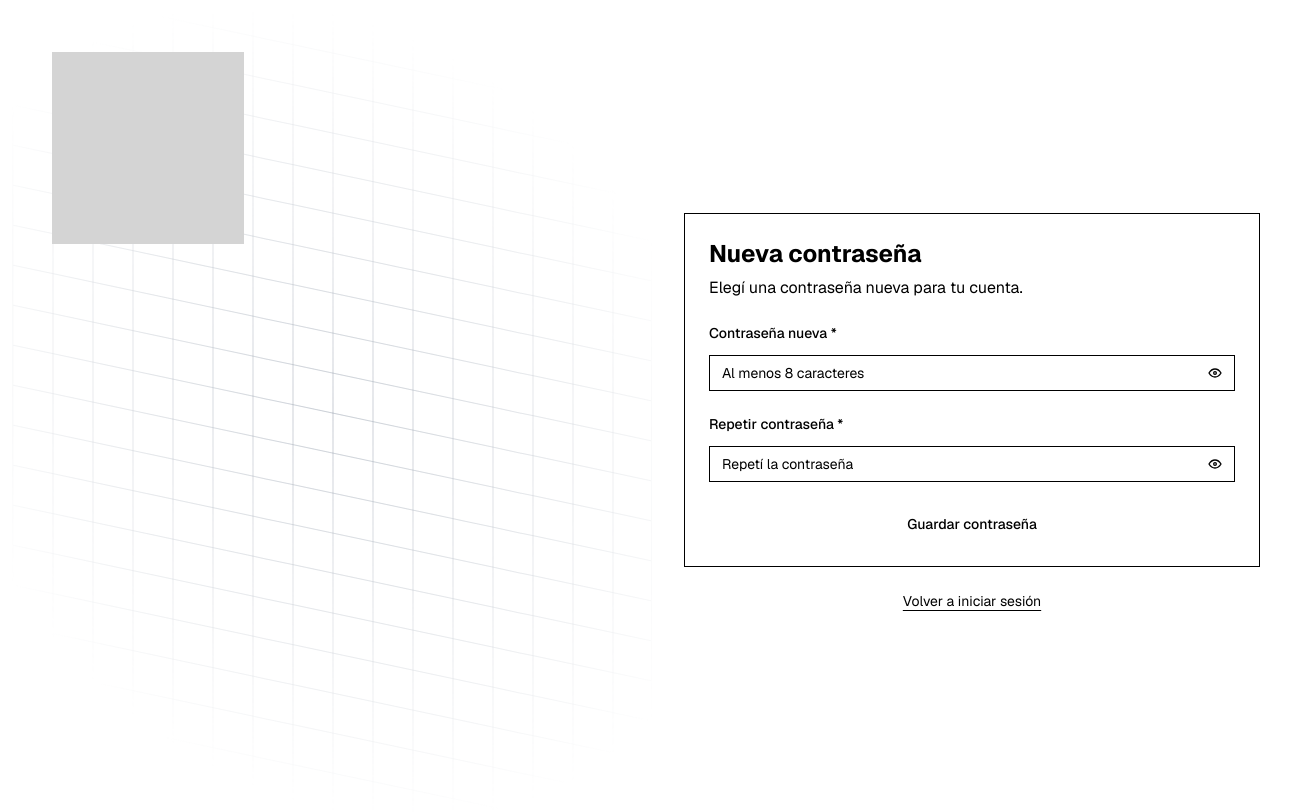
Test: password visibility (#281) › reveals and re-hides each password field independently, keeping what was typed
Type "newpassword1" into the password field labelled "Contraseña nueva *".
click(972, 373); type("newpassword1")  # box [709, 355, 1235, 391]
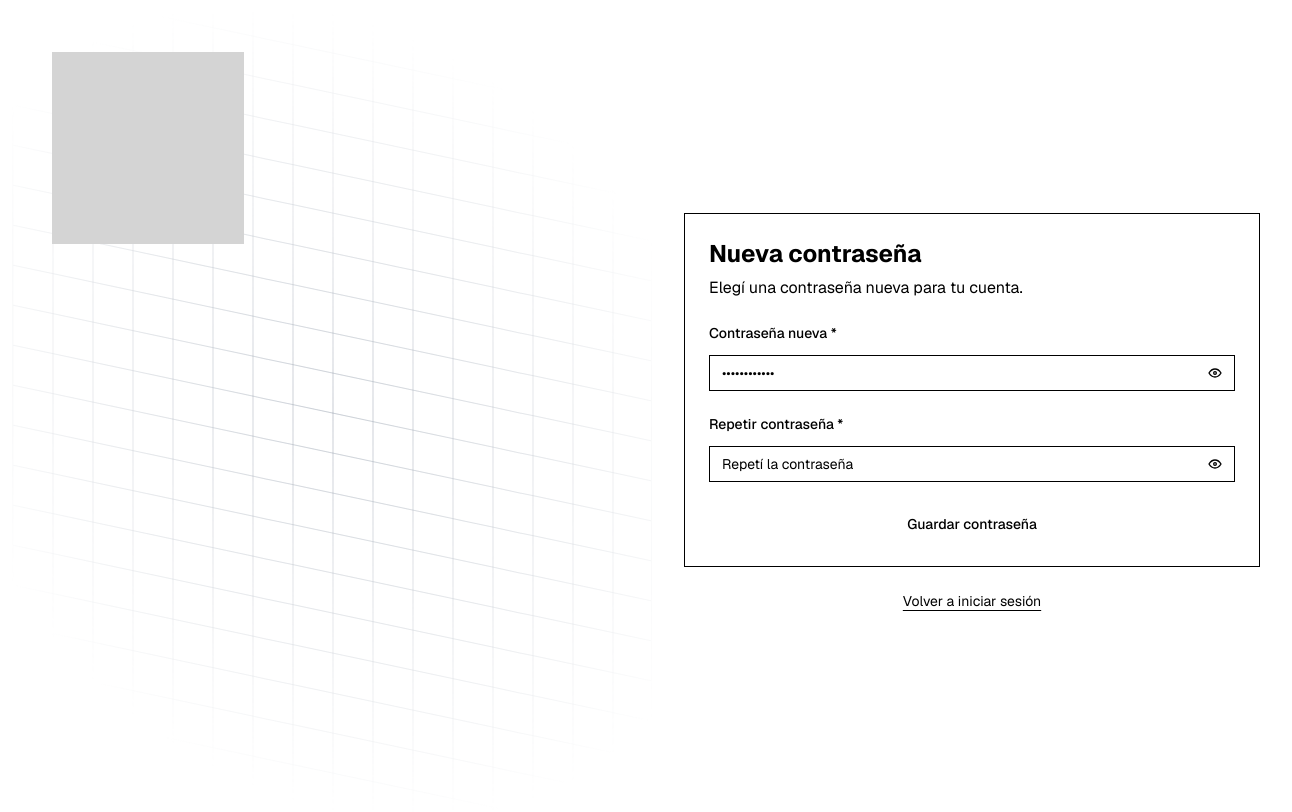
Type "newpassword1" into the password field labelled "Repetir contraseña *".
click(972, 464); type("newpassword1")  # box [709, 446, 1235, 482]
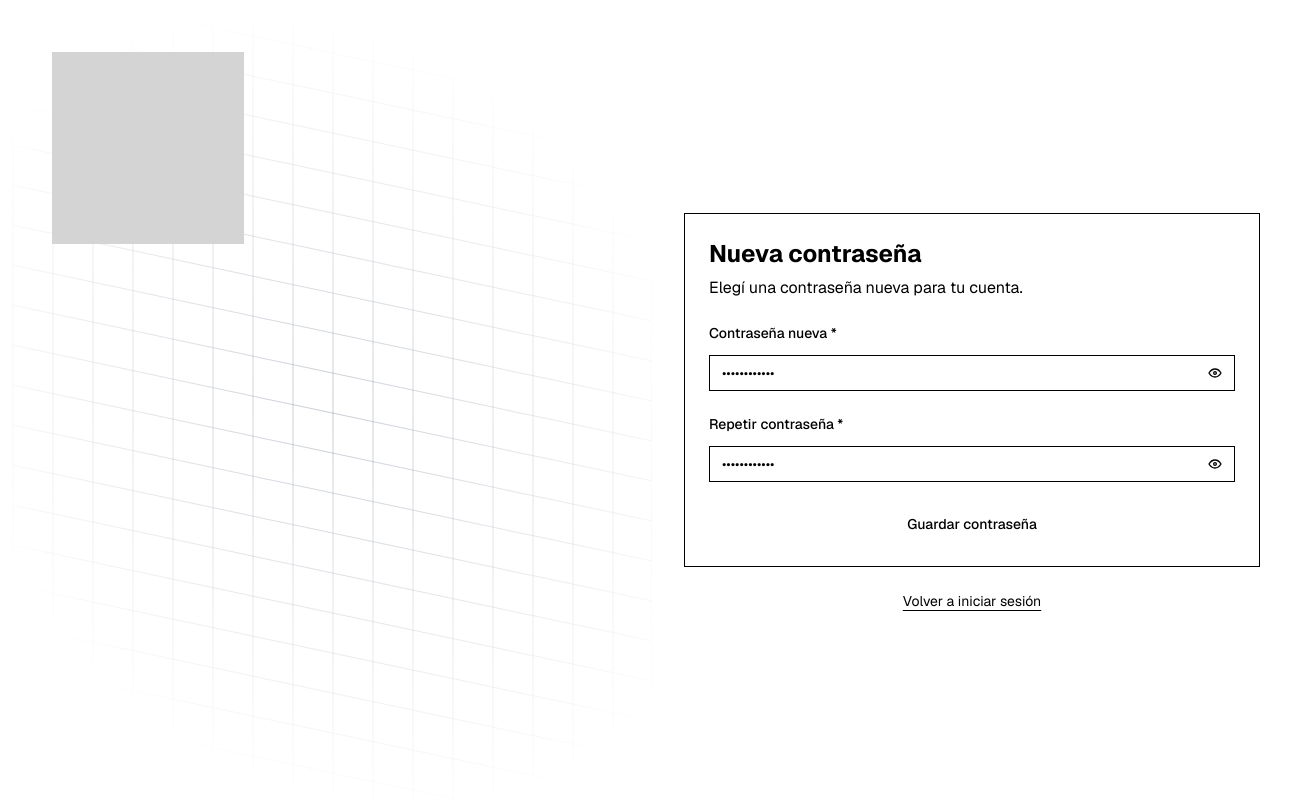
Click the 1st button named "Mostrar contraseña".
click(1215, 373)  # box [1207, 365, 1223, 381]
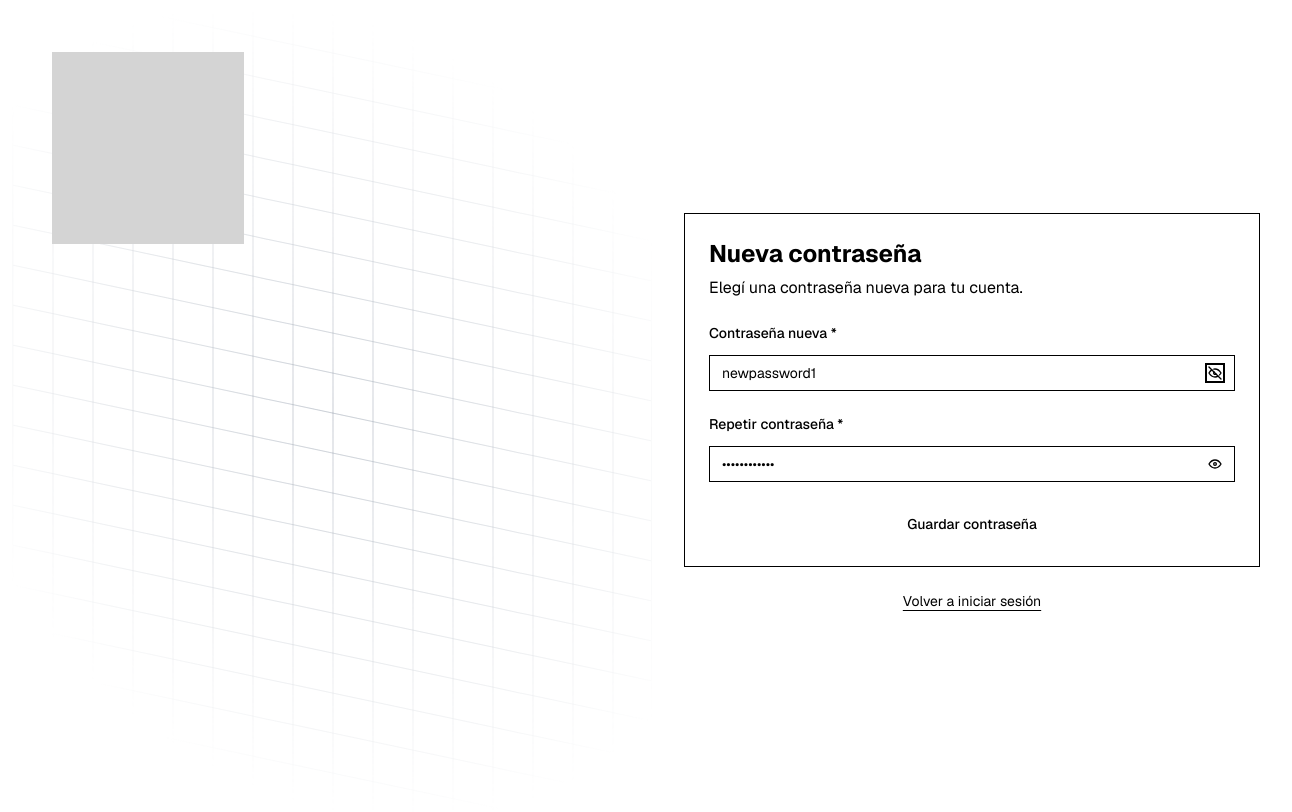
Check: the field labelled "Contraseña nueva *" shows its text, box [709, 355, 1235, 391]
Click the button named "Ocultar contraseña".
click(1215, 373)  # box [1207, 365, 1223, 381]
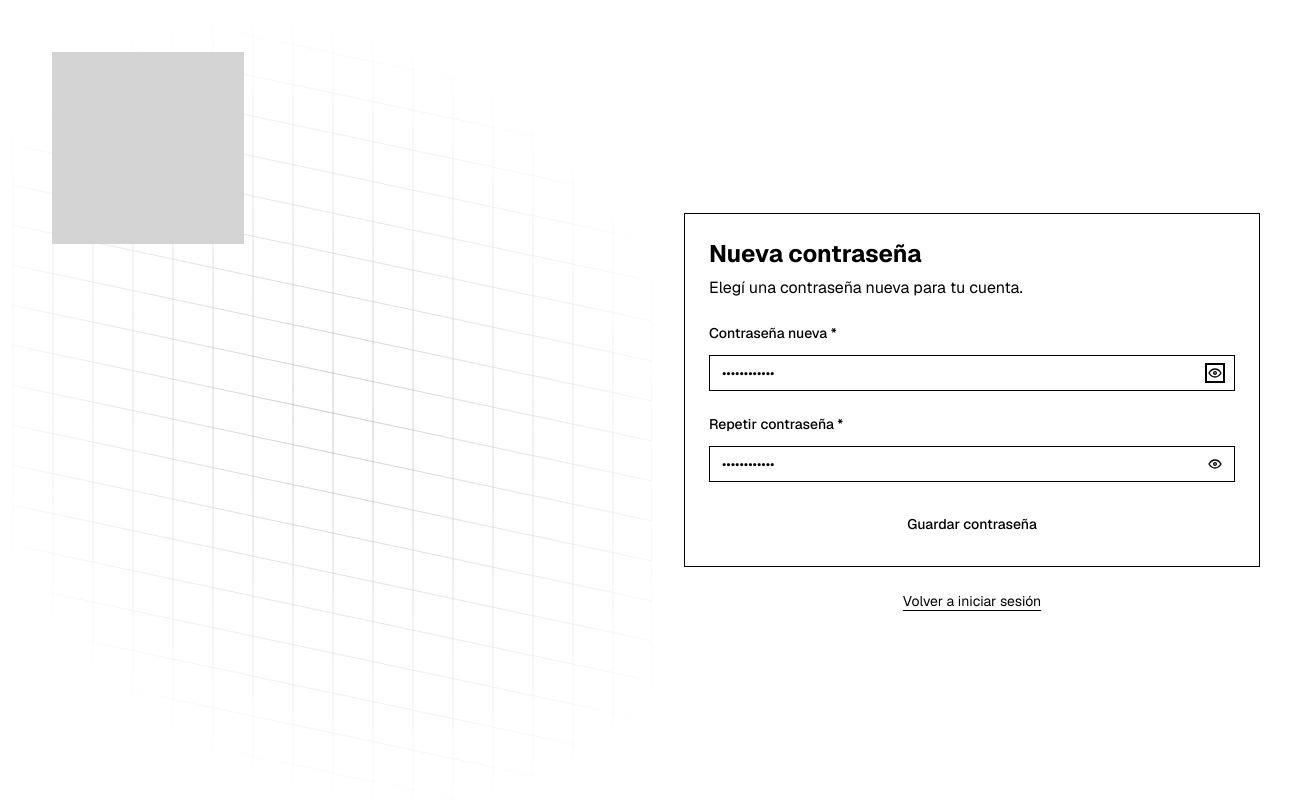
Check: the password field labelled "Contraseña nueva *" hides its text, box [709, 355, 1235, 391]
